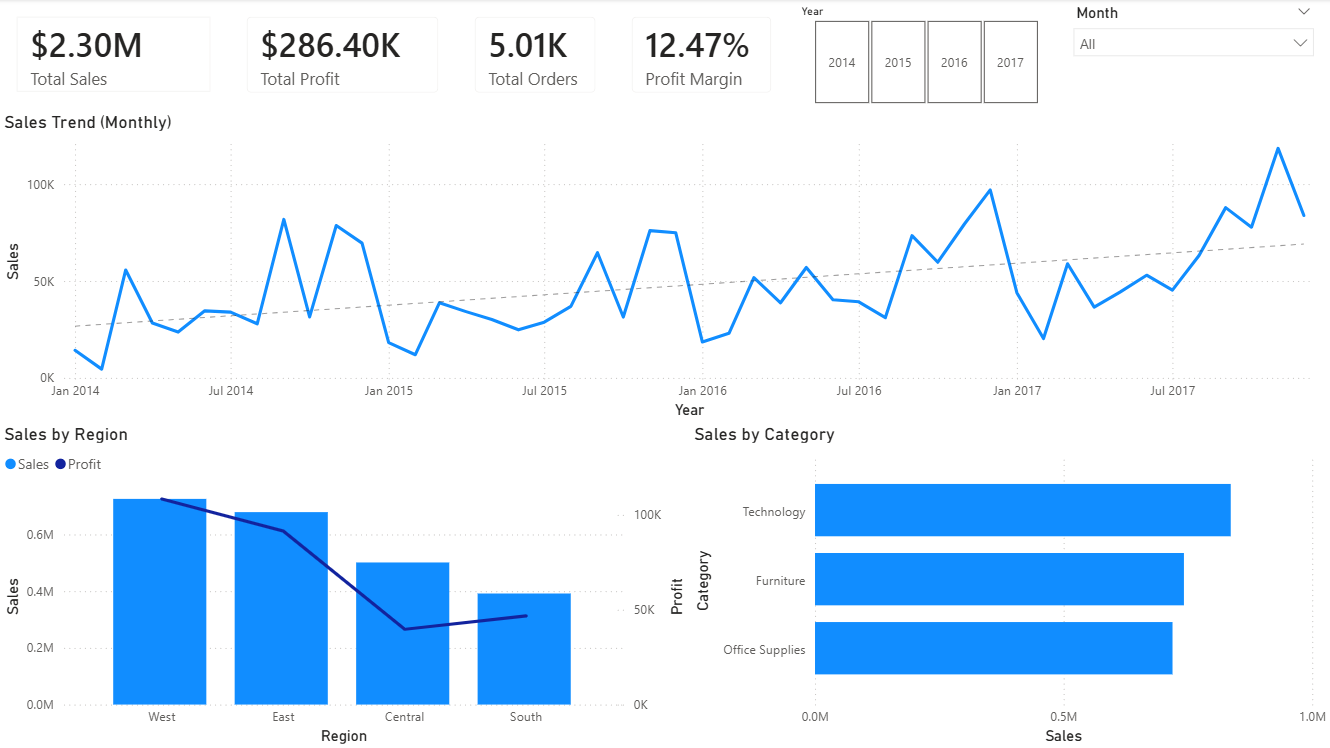

What the dashboard file says about the page in this screenshot:
{"tool":"powerbi","page":{"name":"Overview","canvas":[1280,720],"ordinal":0},"visuals":[{"type":"cardVisual","title":"Total Sales","fields":{"Data":["OrdersMeasures.Total Sales"]},"box":[0,0,220.9,107.5],"z":0},{"type":"cardVisual","fields":{"Data":["OrdersMeasures.Total Profit"]},"box":[220.9,0,218.9,107.5],"z":1000},{"type":"cardVisual","fields":{"Data":["OrdersMeasures.Total Orders"]},"box":[439.8,0,150.8,107.5],"z":2000},{"type":"cardVisual","fields":{"Data":["OrdersMeasures.Profit Margin"]},"box":[590.5,0,168,107.5],"z":3000},{"type":"lineChart","title":"Sales Trend (Monthly)","fields":{"Y":["Sum(FactOrders.Sales)"],"Category":["DimDate.Date.Variation.Date Hierarchy.Year","DimDate.Date.Variation.Date Hierarchy.Quarter","DimDate.Date.Variation.Date Hierarchy.Month"]},"box":[0,107.5,1280,299.6],"z":4000},{"type":"lineClusteredColumnComboChart","title":"Sales by Region","fields":{"Category":["DimRegion.Region"],"Y":["Sum(FactOrders.Sales)"],"Y2":["Sum(FactOrders.Profit)"]},"box":[0,407.1,662.6,313],"z":5000},{"type":"clusteredBarChart","title":"Sales by Category","fields":{"Y":["Sum(FactOrders.Sales)"],"Category":["DimProduct.Category","DimProduct.Sub-Category"]},"box":[662.6,407.1,617.4,313],"z":6000},{"type":"slicer","fields":{"Values":["DimDate.Year"]},"box":[757.7,0,263.6,106.9],"z":7000},{"type":"slicer","fields":{"Values":["DimDate.Month"]},"box":[1021.3,0,250.7,106.9],"z":10000}]}

Visuals, with their boxes in screenshot pixels (x1, y1, x2, y2), scaled from the page's 1280x720 canvas onto the 1330x748 screenshot:
"Total Sales" cardVisual: <region>0, 0, 230, 112</region>
cardVisual - OrdersMeasures.Total Profit: <region>230, 0, 457, 112</region>
cardVisual - OrdersMeasures.Total Orders: <region>457, 0, 614, 112</region>
cardVisual - OrdersMeasures.Profit Margin: <region>614, 0, 788, 112</region>
"Sales Trend (Monthly)" lineChart: <region>0, 112, 1329, 423</region>
"Sales by Region" lineClusteredColumnComboChart: <region>0, 423, 688, 747</region>
"Sales by Category" clusteredBarChart: <region>688, 423, 1329, 747</region>
slicer - DimDate.Year: <region>787, 0, 1061, 111</region>
slicer - DimDate.Month: <region>1061, 0, 1322, 111</region>
